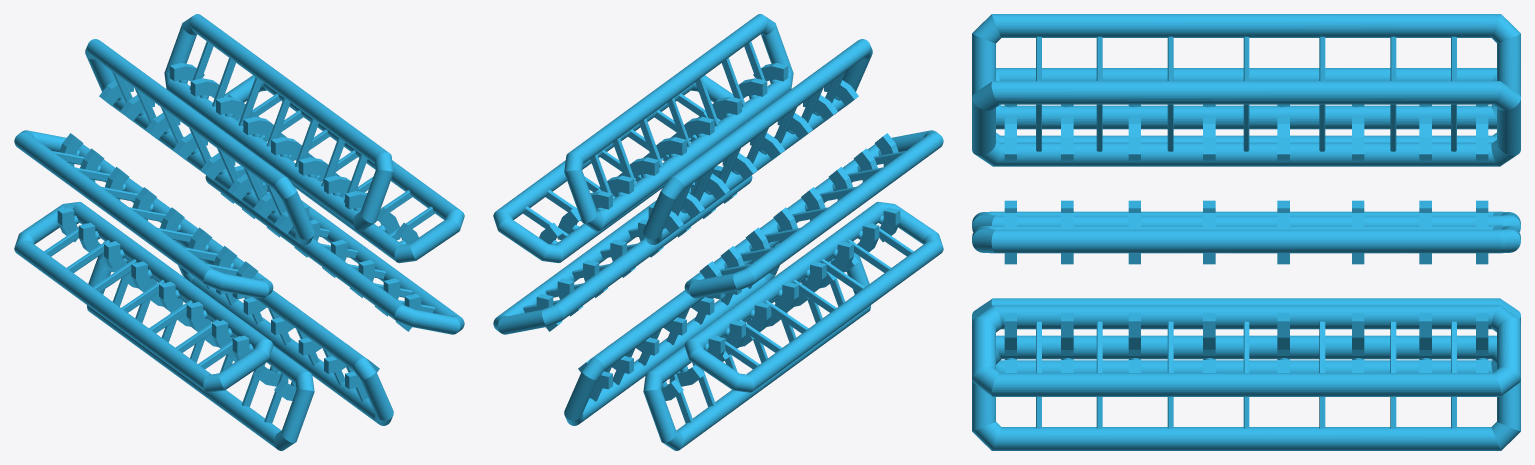
The model's file is Barrel-Toroid.glb.
3 renders of one model, left to right at view 1: azimuth 30°, elevation 25°; view 2: azimuth 150°, elevation 25°; view 3: azimuth 270°, elevation 25°, orthographic. The views are drawn at different scales.
Parts seen in each view (by area): view 1: _040A42C8; view 2: _040A42C8; view 3: _040A42C8.
Boxes of the visible parts, <box> form: _040A42C8: <box>14,14,464,450</box>; _040A42C8: <box>493,14,943,450</box>; _040A42C8: <box>972,14,1520,450</box>.
Size of the model in its own units: 18.68 by 18.68 by 25.26.
